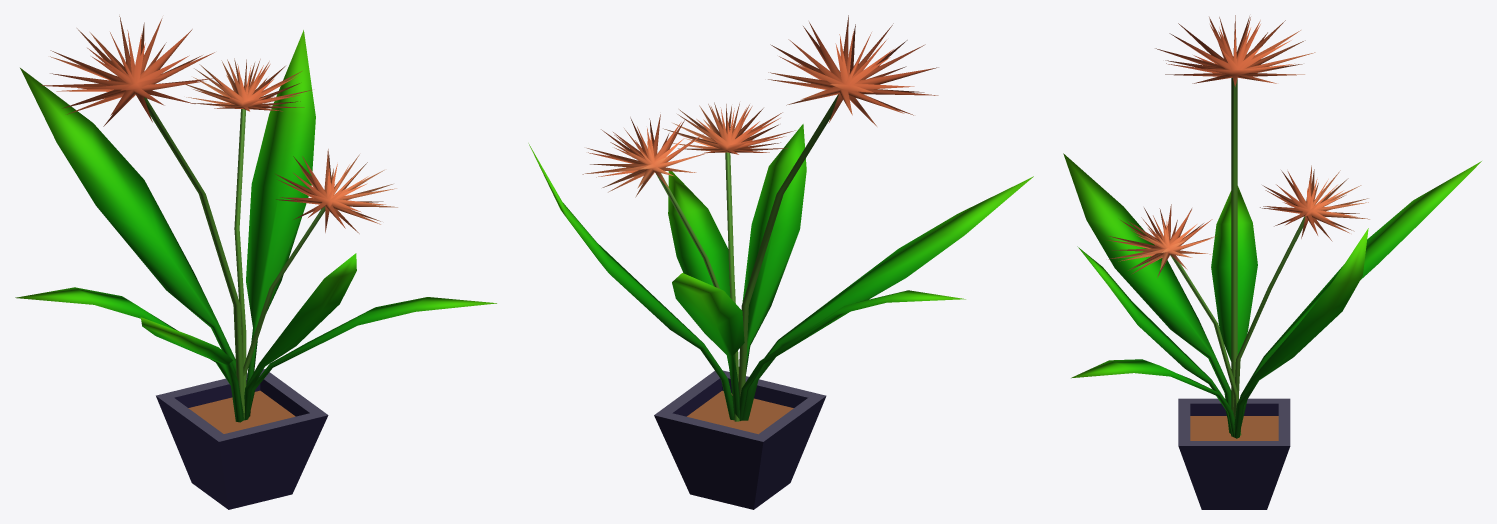
The model's file is pfp01.fbx.
3 renders of one model, left to right at view 1: azimuth 30°, elevation 25°; view 2: azimuth 150°, elevation 25°; view 3: azimuth 270°, elevation 25°, orthographic. The views are drawn at different scales.
Visible parts, largest first — view 1: pfp01; view 2: pfp01; view 3: pfp01.
Boxes of the visible parts, left/top/right/bottom form: pfp01: left=15, top=16, right=496, bottom=509; pfp01: left=528, top=15, right=1033, bottom=509; pfp01: left=1063, top=15, right=1481, bottom=509.
Bounding box in the file's own units: 71.94 × 84.32 × 75.41.
